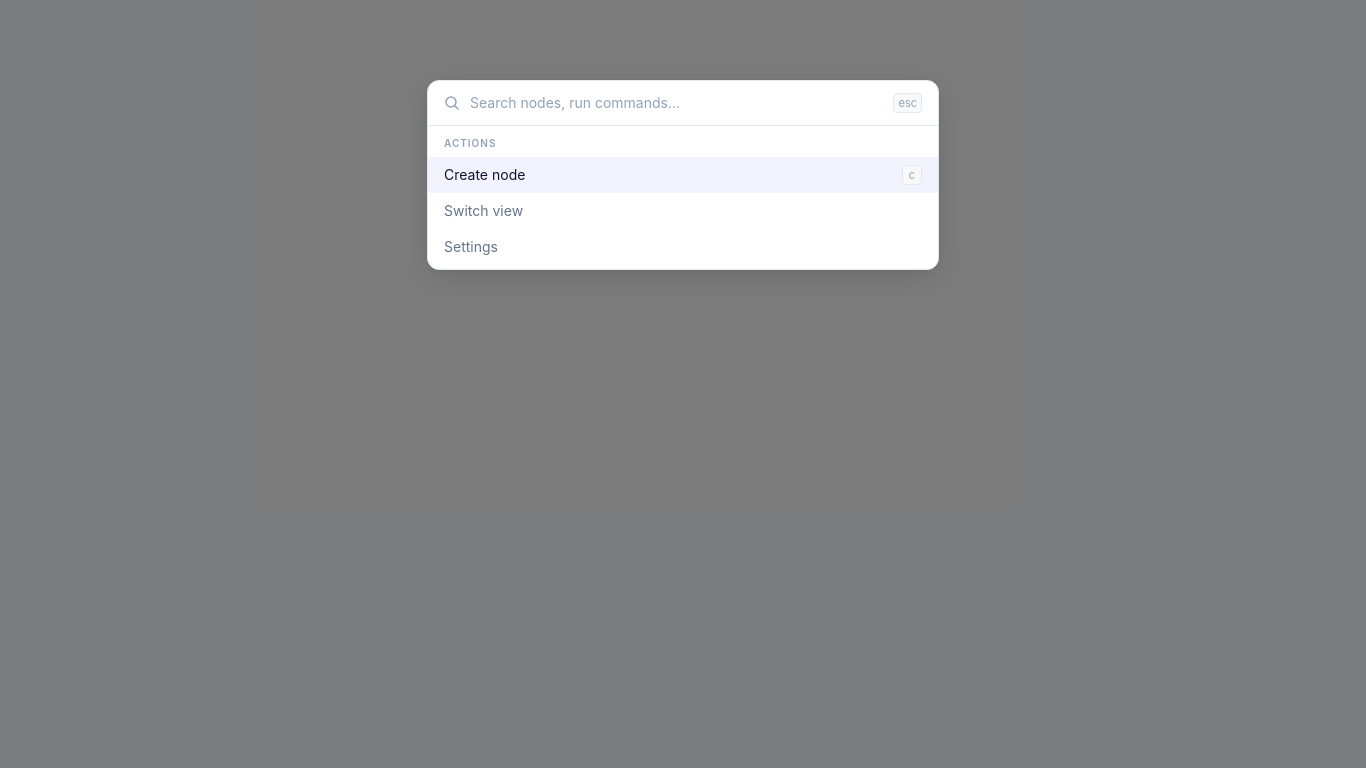
Test case: CommandPalette › shows no results message for empty search
Type "nonexistent" into the field labelled "Search" at {"x": 678, "y": 103}, box [470,93,886,113]
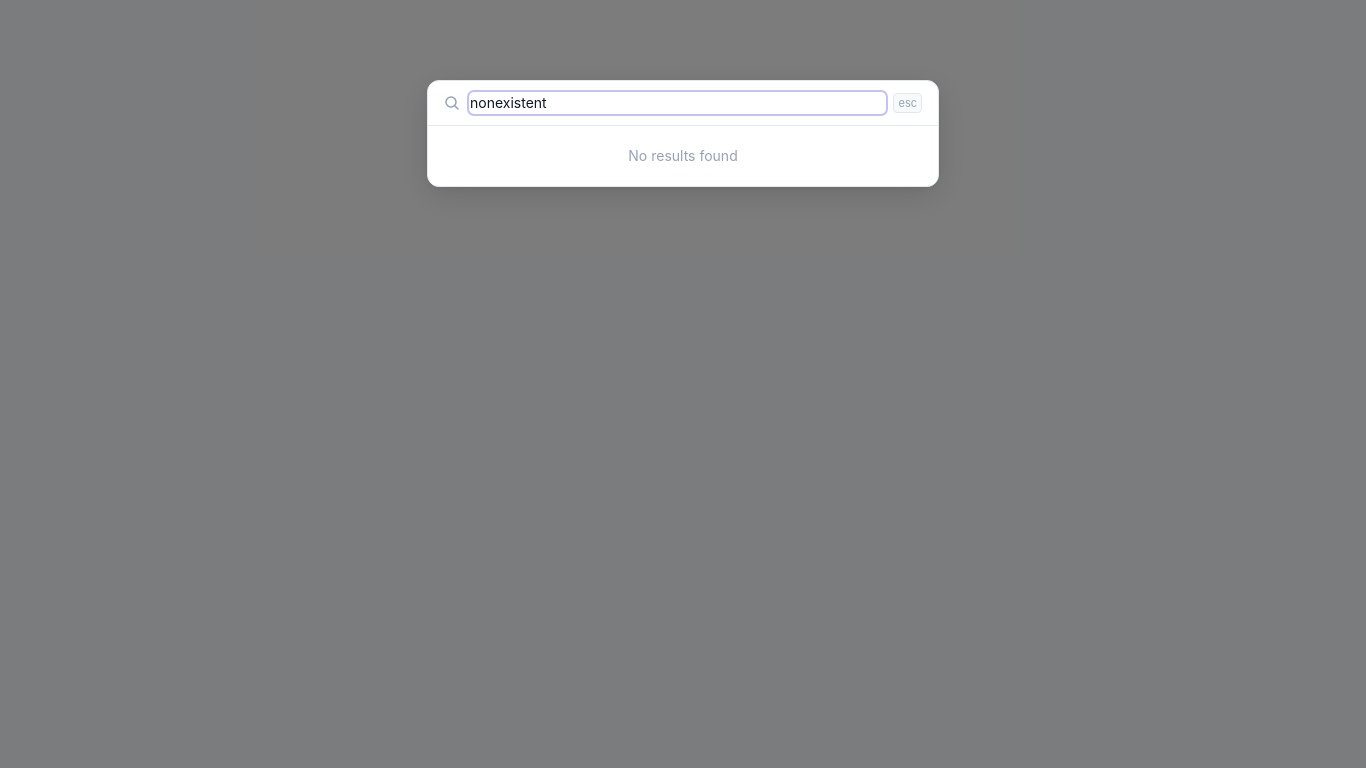
Expected: the text "No results found" is shown, [628,147,738,164]
